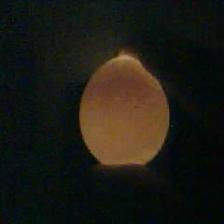infertile: (78, 53, 170, 166)
